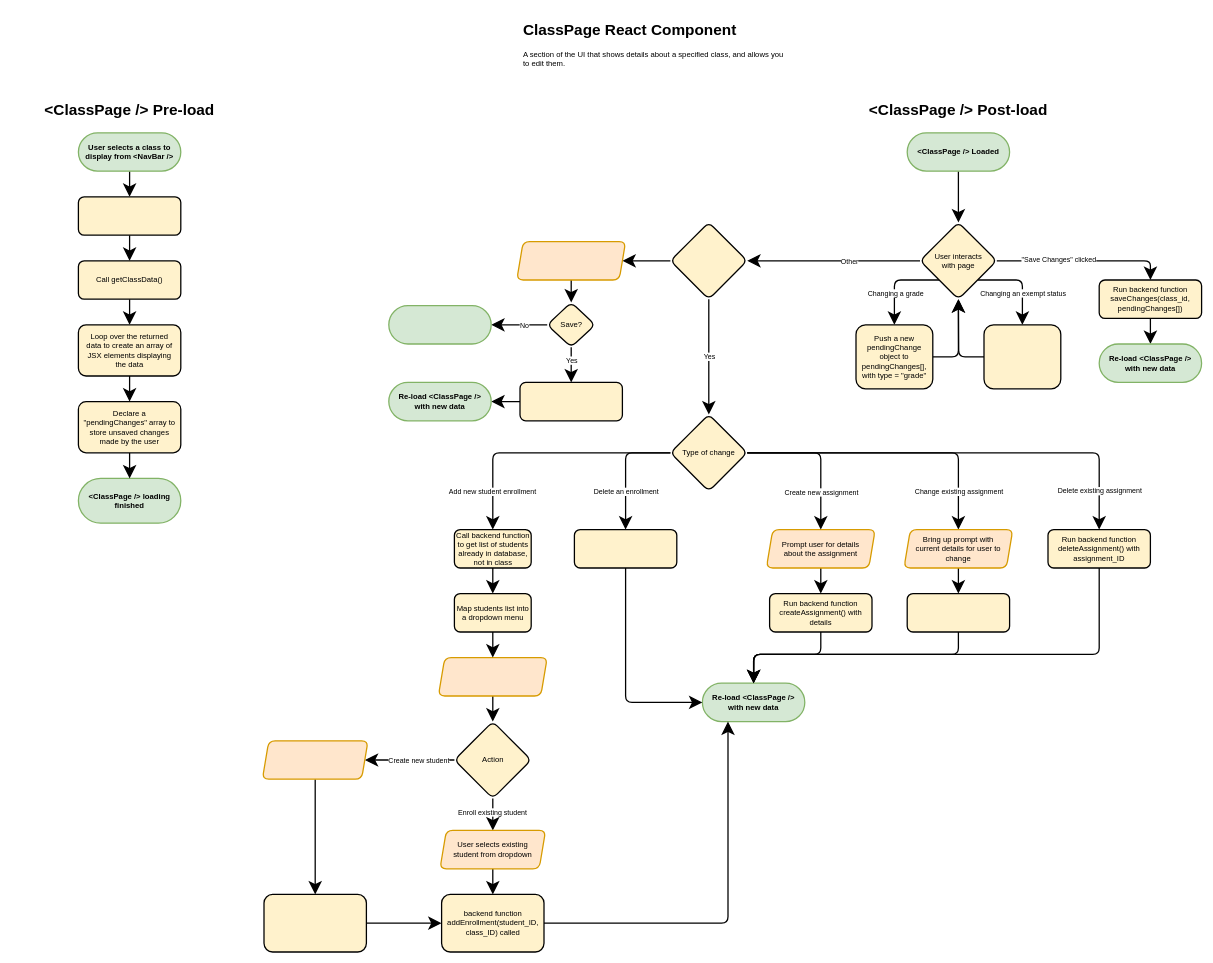
Image size: 1213x963. Some labels were removed from this diagram. The shapes that lost their labels are listed below. From the top down, each one's centre as x and y in pixels, then its label:
point 129,216: React Component <ClassPage id=x/> initialized
point 571,260: Prompt user to save changes before adding a new student
point 708,260: is pendingChanges[] empty?
point 440,324: Cancel action, return to <ClassPage />
point 1022,356: Push a new pendingChange object to pendingChanges[], with type = "exempt"
point 571,401: Run backend function saveChanges
point 625,548: Run backend function removeEnrollment() with student_ID and class_ID
point 958,612: Run backend function editAssignment() with details
point 492,676: Prompt user to select existing student, or create a new student
point 314,760: User fills out form containing first_name and last_name of new student
point 315,922: backend function createStudent(first_name, last_name) called
